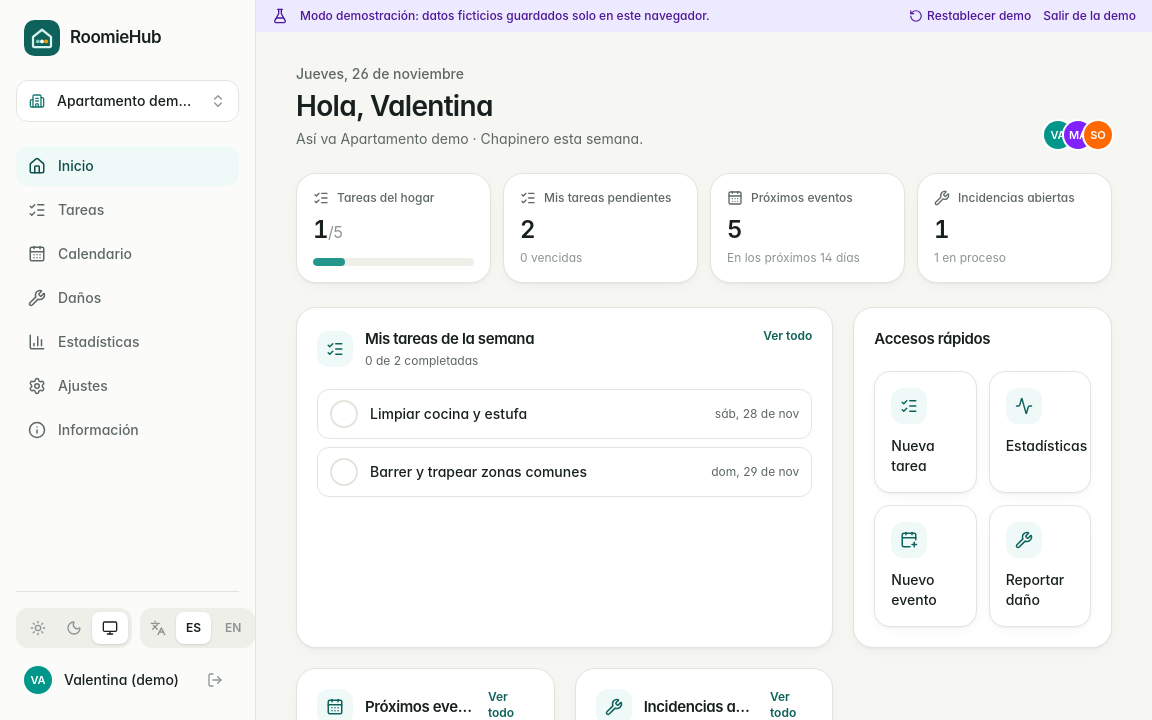
Scenario: routing and guards › navigates with the main navigation
Check: the heading "Hola, Valentina" is shown, box [296,89,493,123]
Click the link "Calendario": [80, 254] box [28,245,132,263]
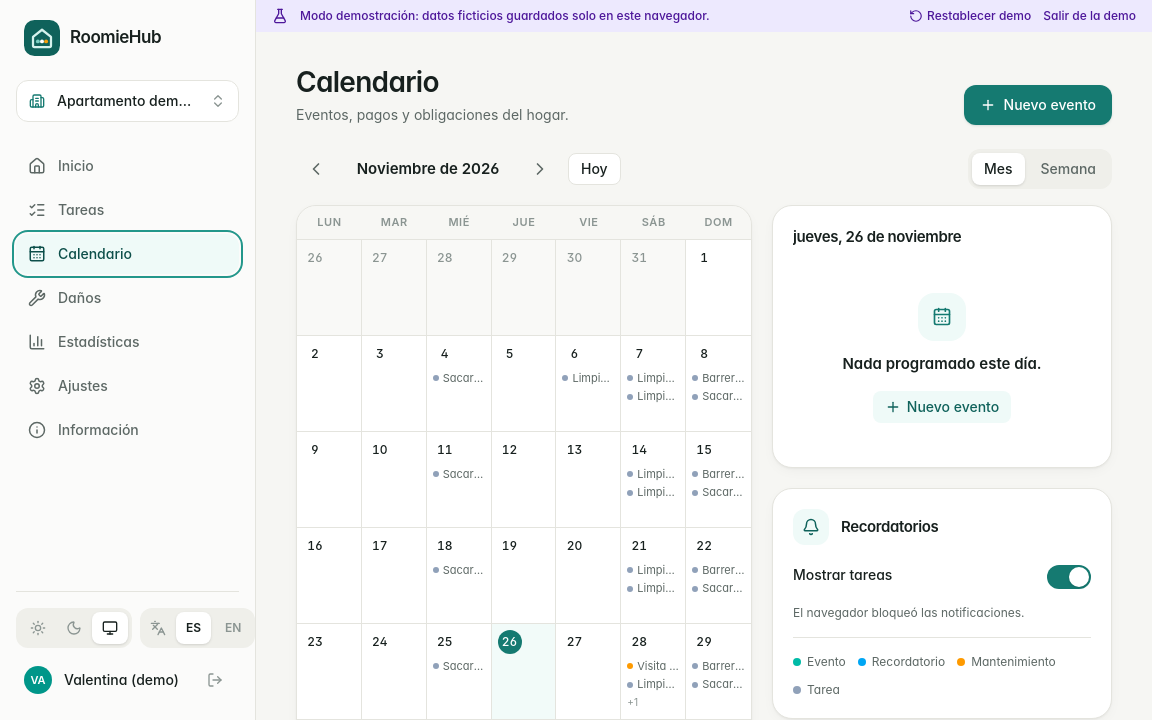
Check: the heading "Calendario" is shown, box [296,65,439,99]
